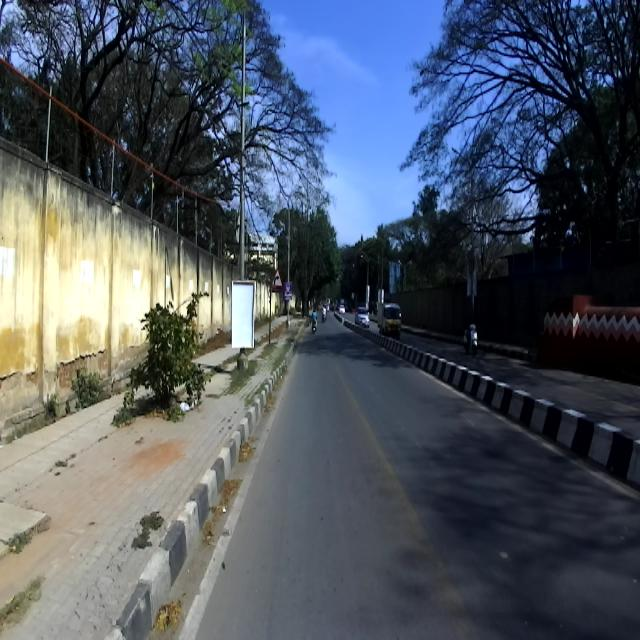footpath on: (230, 12, 258, 386)
plant ahead at: (128, 290, 211, 424)
